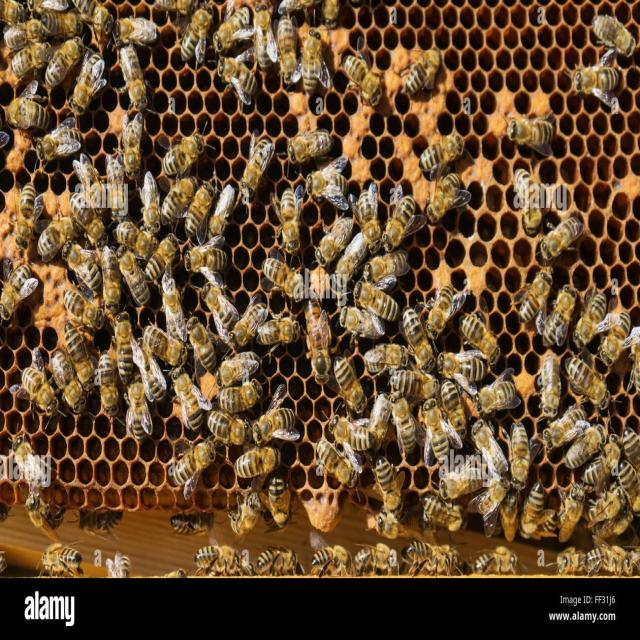honeybee: (562, 66, 630, 120), (31, 112, 81, 178), (398, 528, 451, 584), (110, 45, 154, 111), (458, 408, 496, 484), (165, 438, 205, 510), (363, 234, 413, 287), (60, 319, 100, 384), (263, 185, 307, 244), (55, 275, 100, 331), (253, 231, 291, 296), (308, 210, 349, 270), (396, 302, 434, 366), (416, 119, 462, 171), (195, 532, 248, 576), (421, 405, 456, 471), (461, 304, 502, 360), (76, 58, 108, 126), (48, 352, 80, 420), (126, 105, 159, 170), (308, 159, 356, 203), (146, 312, 178, 378), (320, 394, 358, 448), (205, 379, 237, 443), (16, 180, 48, 244), (134, 157, 162, 230), (158, 125, 209, 165), (42, 31, 88, 75), (346, 274, 394, 316), (260, 405, 308, 447), (234, 125, 266, 187), (299, 310, 331, 372), (104, 307, 139, 363), (230, 479, 262, 540), (198, 276, 232, 333), (75, 496, 118, 541), (338, 40, 369, 102), (512, 176, 548, 229), (425, 336, 470, 378), (370, 453, 402, 512), (204, 4, 248, 46), (397, 55, 439, 99), (516, 461, 540, 535), (115, 239, 144, 300), (12, 45, 55, 86), (565, 356, 606, 399), (354, 535, 392, 581), (510, 110, 548, 156), (470, 370, 511, 412), (183, 230, 226, 270), (424, 171, 464, 214), (552, 489, 585, 541), (316, 439, 354, 484), (276, 17, 300, 88), (99, 11, 152, 43), (217, 47, 249, 100), (65, 154, 101, 201), (338, 301, 375, 345), (134, 334, 156, 408), (379, 196, 410, 248), (260, 316, 300, 356), (106, 206, 140, 253), (327, 232, 362, 277), (534, 349, 564, 401), (209, 348, 256, 381), (172, 361, 202, 412), (96, 140, 124, 194), (205, 175, 231, 233), (284, 124, 336, 153), (592, 10, 626, 54), (221, 373, 260, 411), (51, 562, 90, 600), (559, 422, 613, 449), (22, 344, 43, 413), (167, 12, 199, 57), (422, 290, 462, 326), (535, 402, 583, 432), (233, 297, 268, 337), (566, 534, 598, 577), (96, 346, 114, 422), (538, 210, 576, 246), (172, 510, 229, 534), (384, 399, 412, 447), (360, 381, 384, 436), (413, 496, 454, 528), (67, 234, 91, 288), (35, 222, 65, 265), (40, 0, 78, 32), (0, 251, 19, 314), (508, 413, 529, 468), (182, 170, 206, 218), (91, 246, 115, 294), (528, 282, 552, 330), (251, 0, 269, 63), (302, 19, 320, 80), (160, 284, 183, 330), (586, 446, 614, 482), (266, 478, 290, 518), (126, 381, 145, 431), (600, 311, 622, 354), (73, 191, 96, 232), (480, 476, 495, 538), (25, 487, 50, 523), (143, 238, 180, 262), (593, 478, 613, 522), (2, 10, 28, 43), (336, 361, 358, 400), (348, 188, 370, 224), (233, 452, 269, 474), (183, 320, 204, 357), (162, 168, 181, 208), (556, 289, 572, 336), (265, 550, 284, 588), (366, 510, 396, 533), (479, 546, 506, 571), (576, 304, 596, 334), (313, 536, 334, 564)
